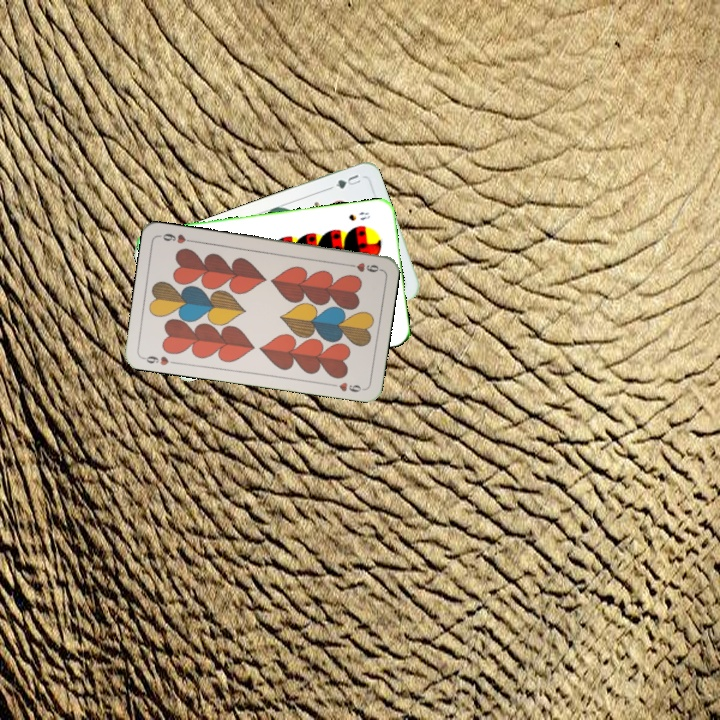GU: (331, 170, 364, 191)
H9: (343, 259, 383, 275), (139, 352, 179, 368)
S8: (344, 208, 372, 223)
